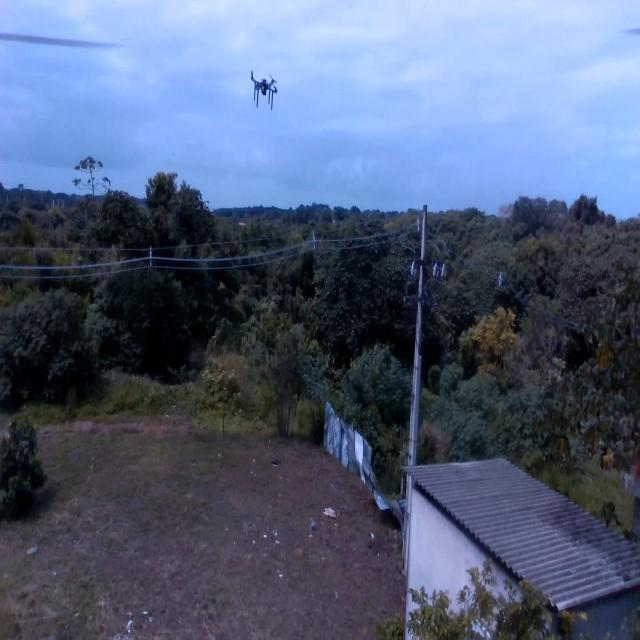-uav-: (248, 58, 282, 120)
